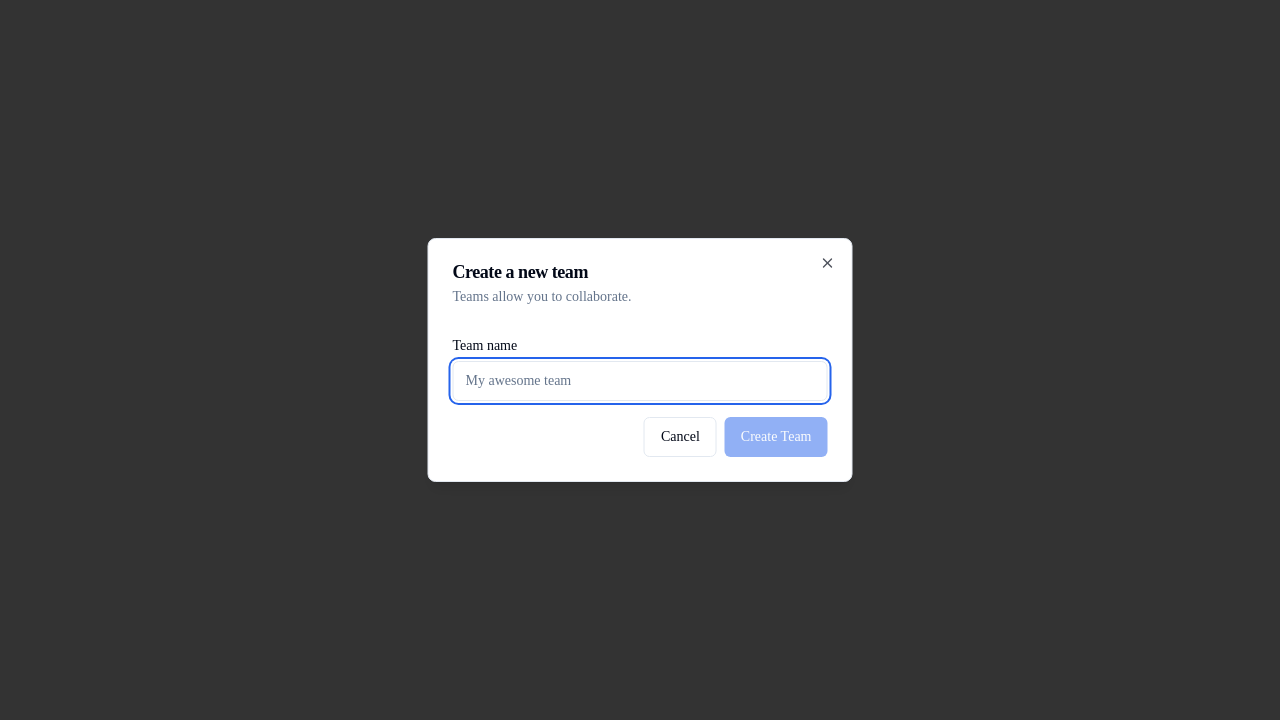
CreateTeamDialog › shows error on create failure
In the field labelled "Team name": (640, 381) [452, 361, 828, 401], type "New Team"
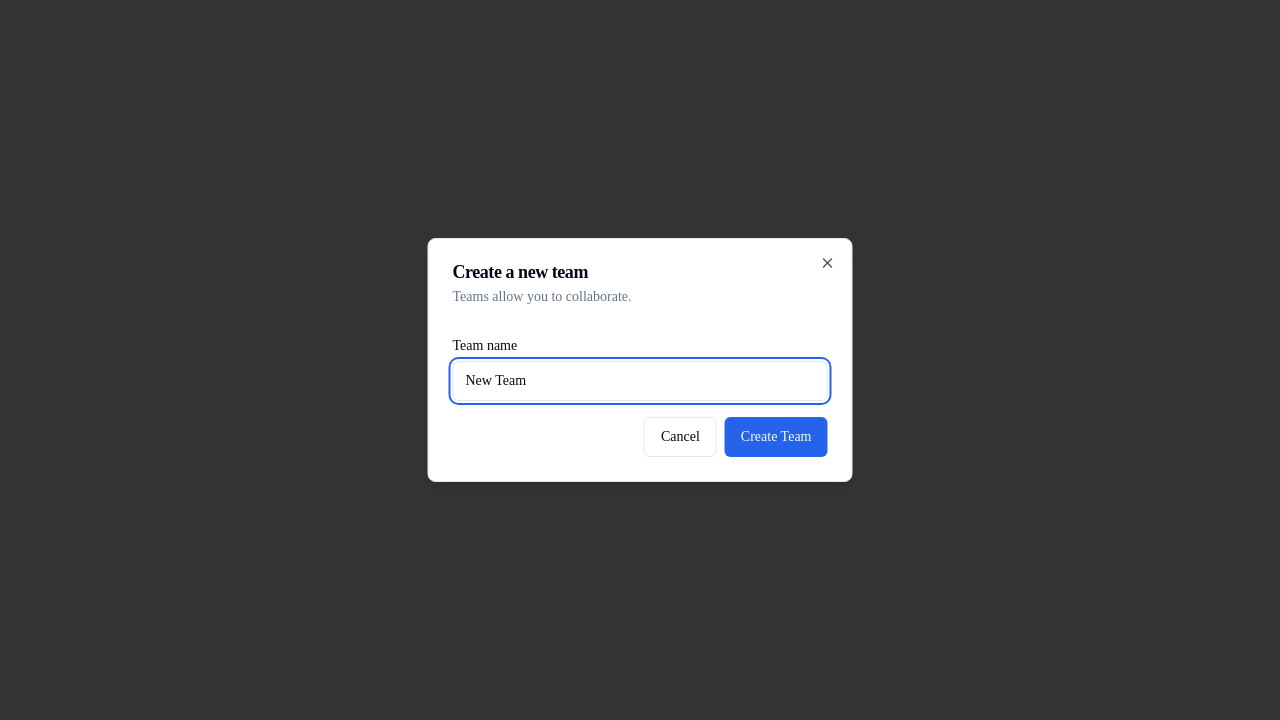
Click the button "Create Team": (776, 437) [725, 417, 828, 457]
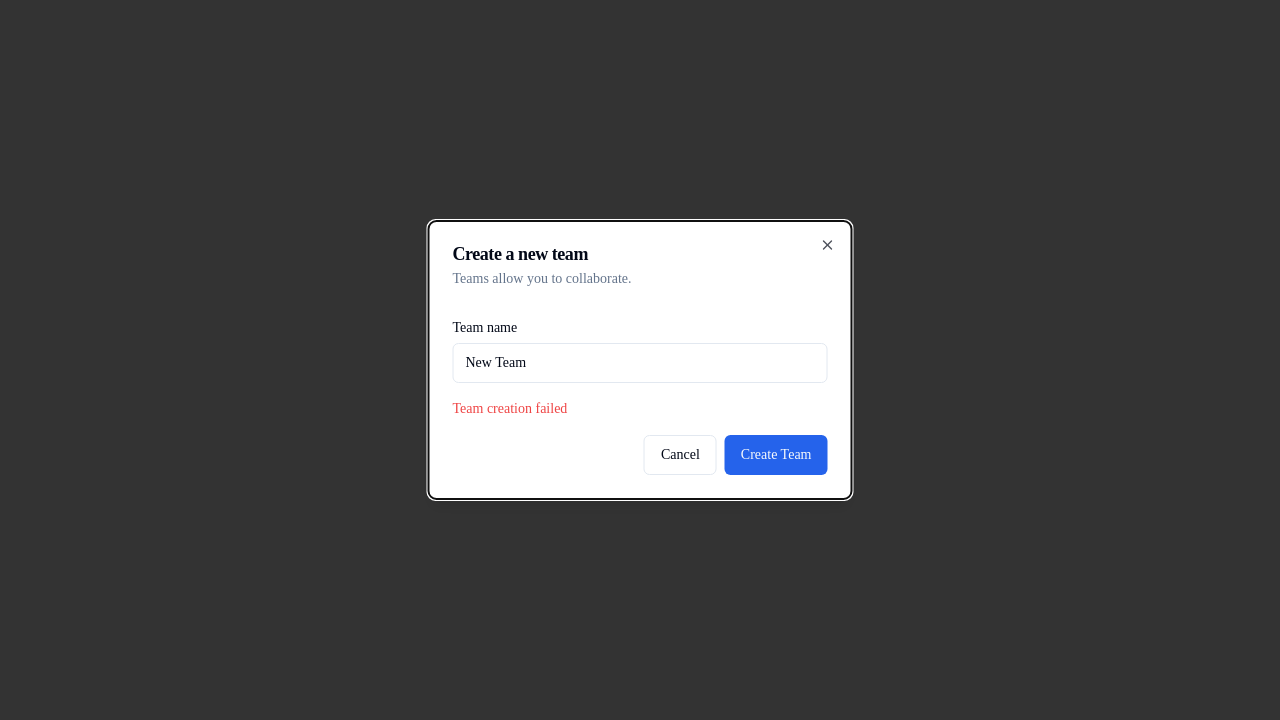
Check: the text "Team creation failed" is shown, box [452, 401, 567, 416]
